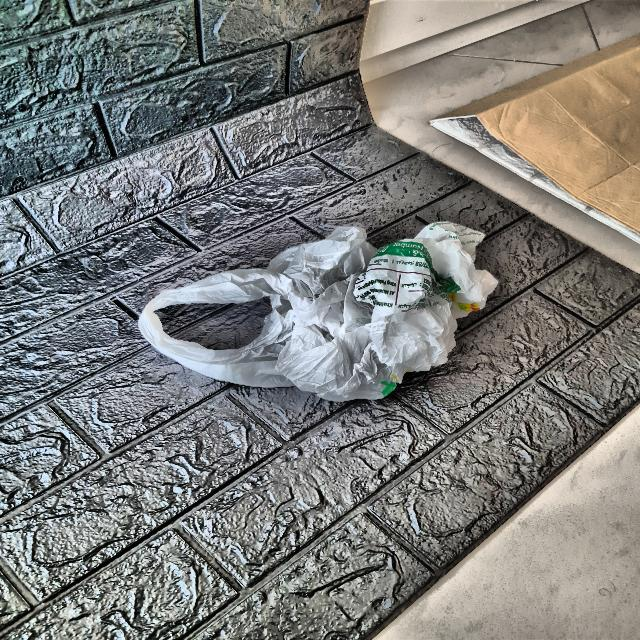plastic bag: (105, 205, 512, 419)
